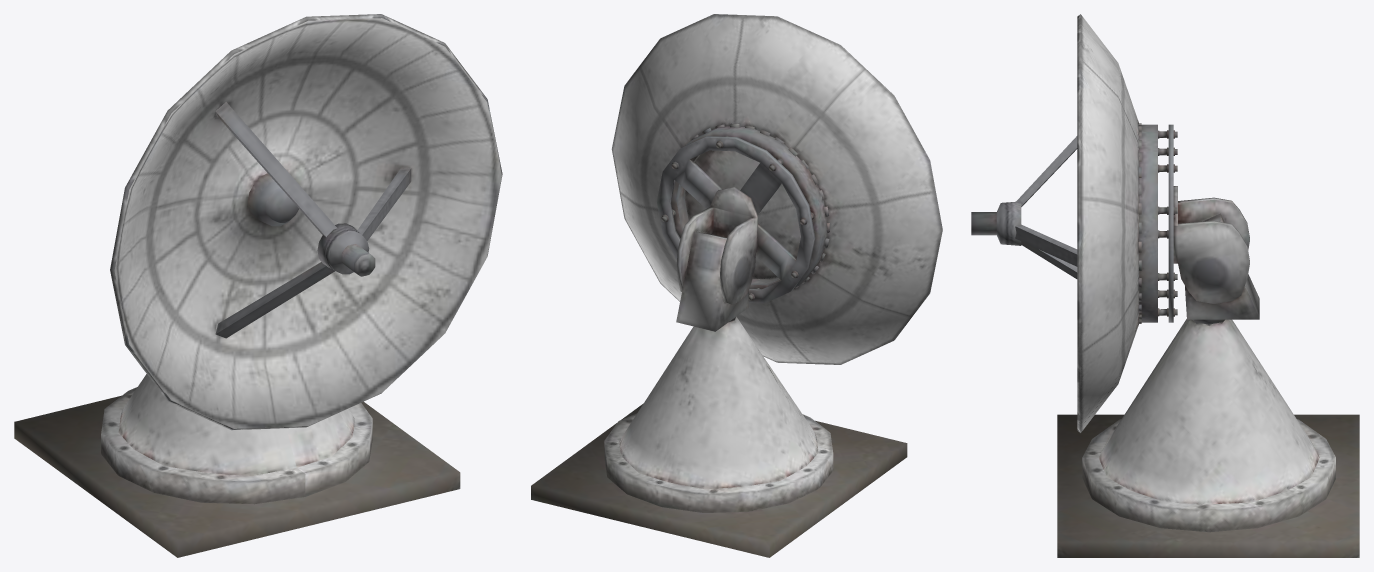
Rendered from turret_beacon.glb.
3 views of the same model, side by side, from view 1: azimuth 30°, elevation 25°; view 2: azimuth 150°, elevation 25°; view 3: azimuth 270°, elevation 25° (orthographic). The views are drawn at different scales.
Visible parts, largest first — view 1: Radar; view 2: Radar; view 3: Radar.
Part boxes in pixels (x1,y1,x2,y2): Radar: (14,14,502,557); Radar: (531,14,942,557); Radar: (971,14,1359,557).
Bounding box in the file's own units: 1.65 × 2 × 1.53.
1 material, 1 textured.
